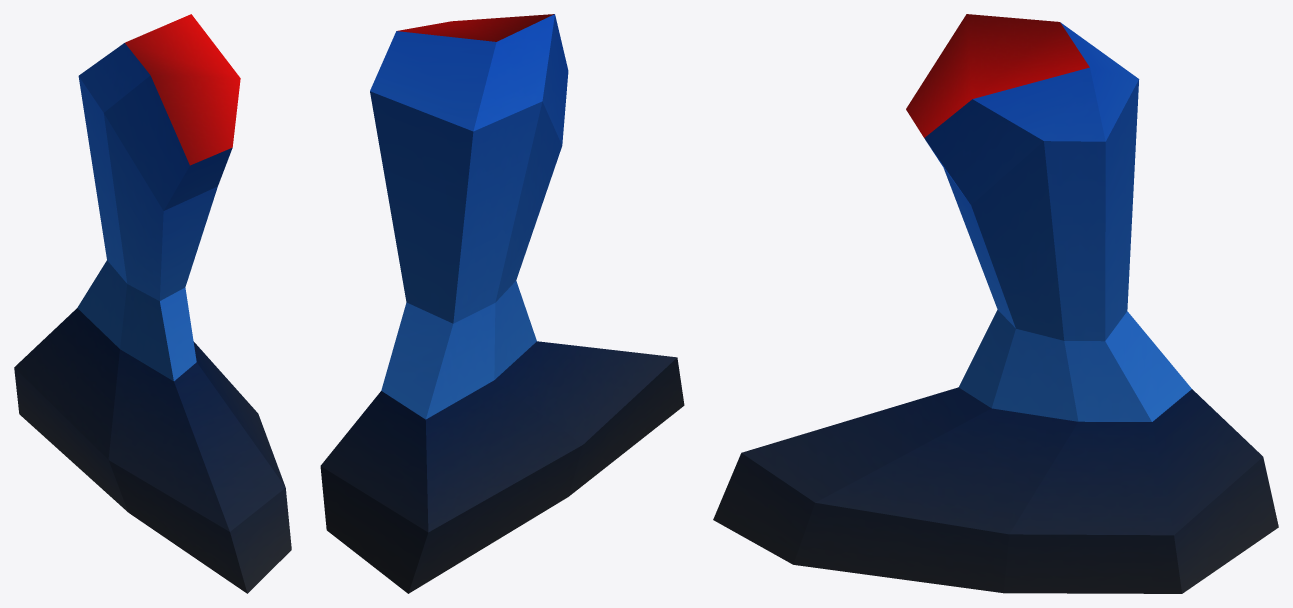
File: Flesh2.fbx
3 views of the same model, side by side, from view 1: azimuth 30°, elevation 25°; view 2: azimuth 150°, elevation 25°; view 3: azimuth 270°, elevation 25° (orthographic). The views are drawn at different scales.
Parts seen in each view (by area): view 1: Flesh2; view 2: Flesh2; view 3: Flesh2.
Part boxes in pixels (x1,y1,x2,y2): Flesh2: [14, 14, 291, 593]; Flesh2: [320, 14, 684, 593]; Flesh2: [713, 14, 1278, 593].
Size of the model in its own units: 3.91 by 10.12 by 10.13.
